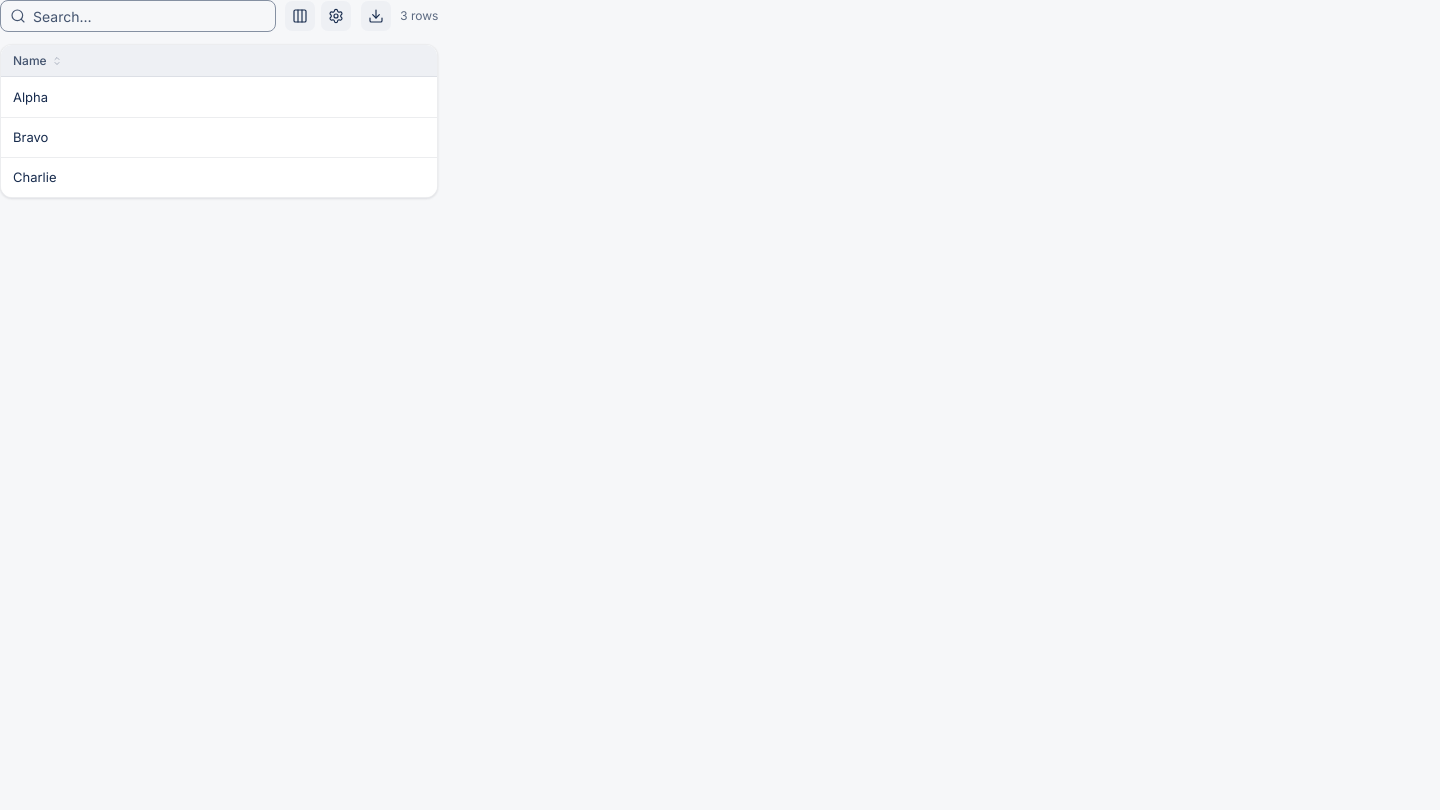
row side panel › moves to the next and previous record with the arrow keys
Click the text "Alpha".
click(31, 97)  # box [1, 77, 438, 117]
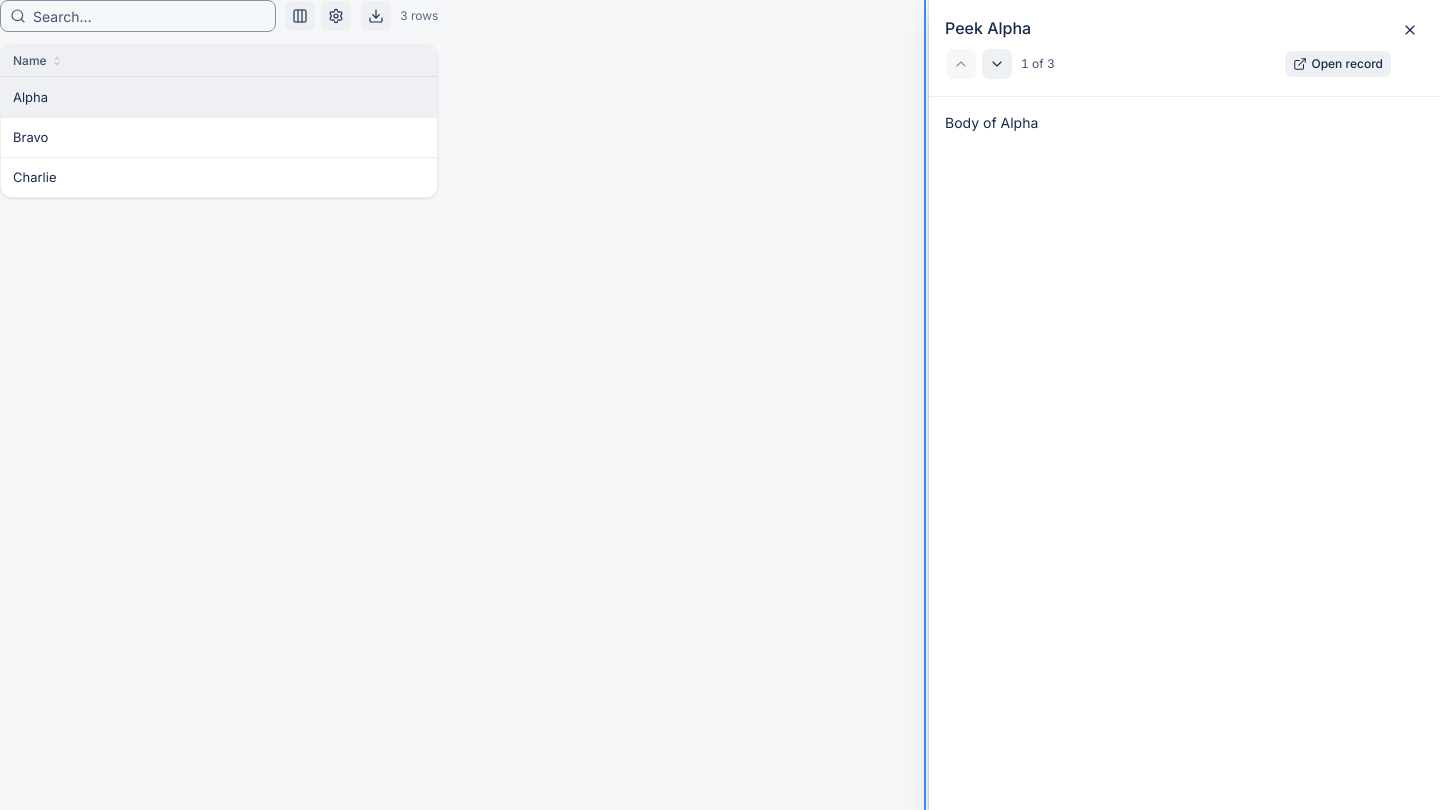
Press ArrowDown in the dialog, box [928, 0, 1439, 809]
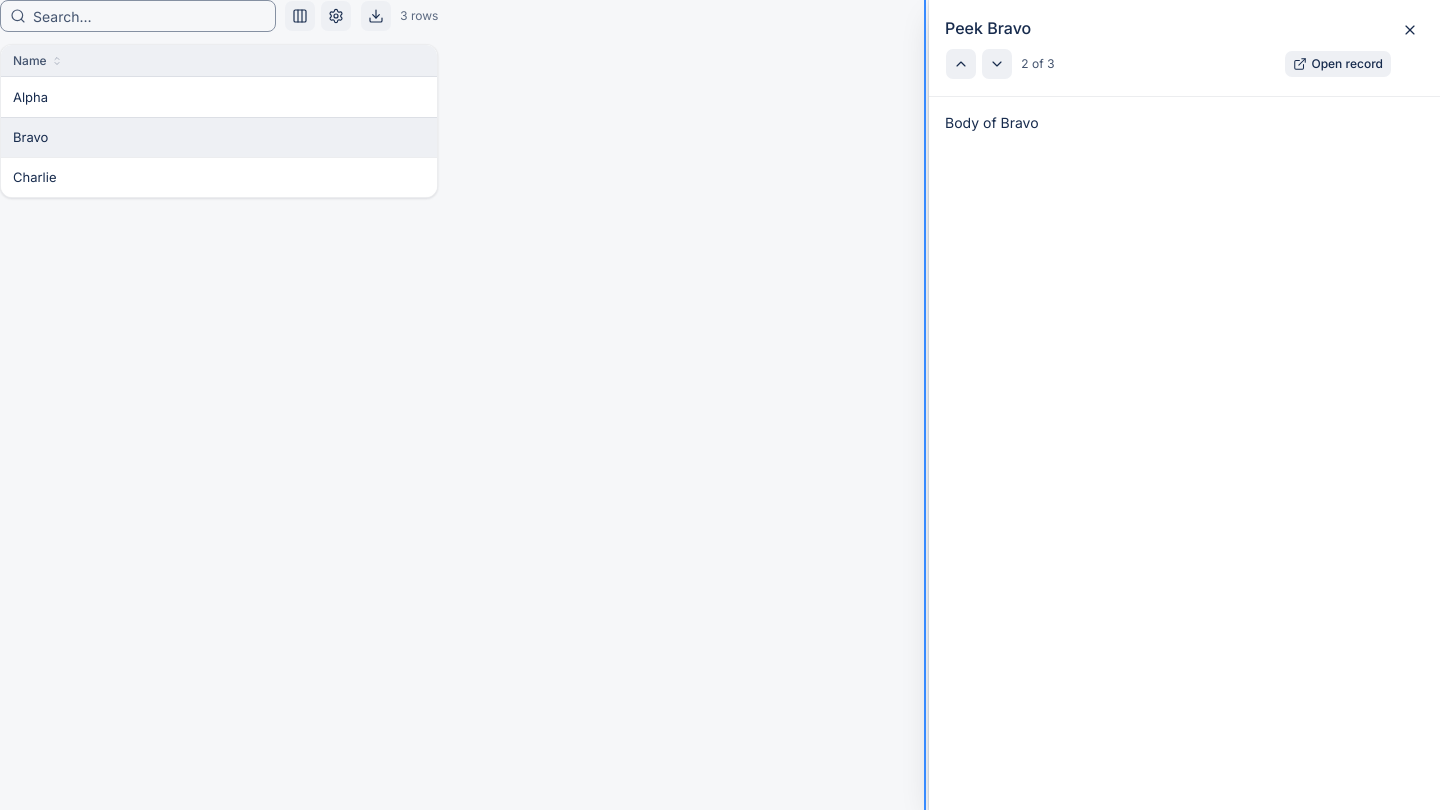
Expected: the heading "Peek Bravo" is shown, [945, 18, 1031, 38]
Press ArrowDown in the dialog, box [928, 0, 1439, 809]
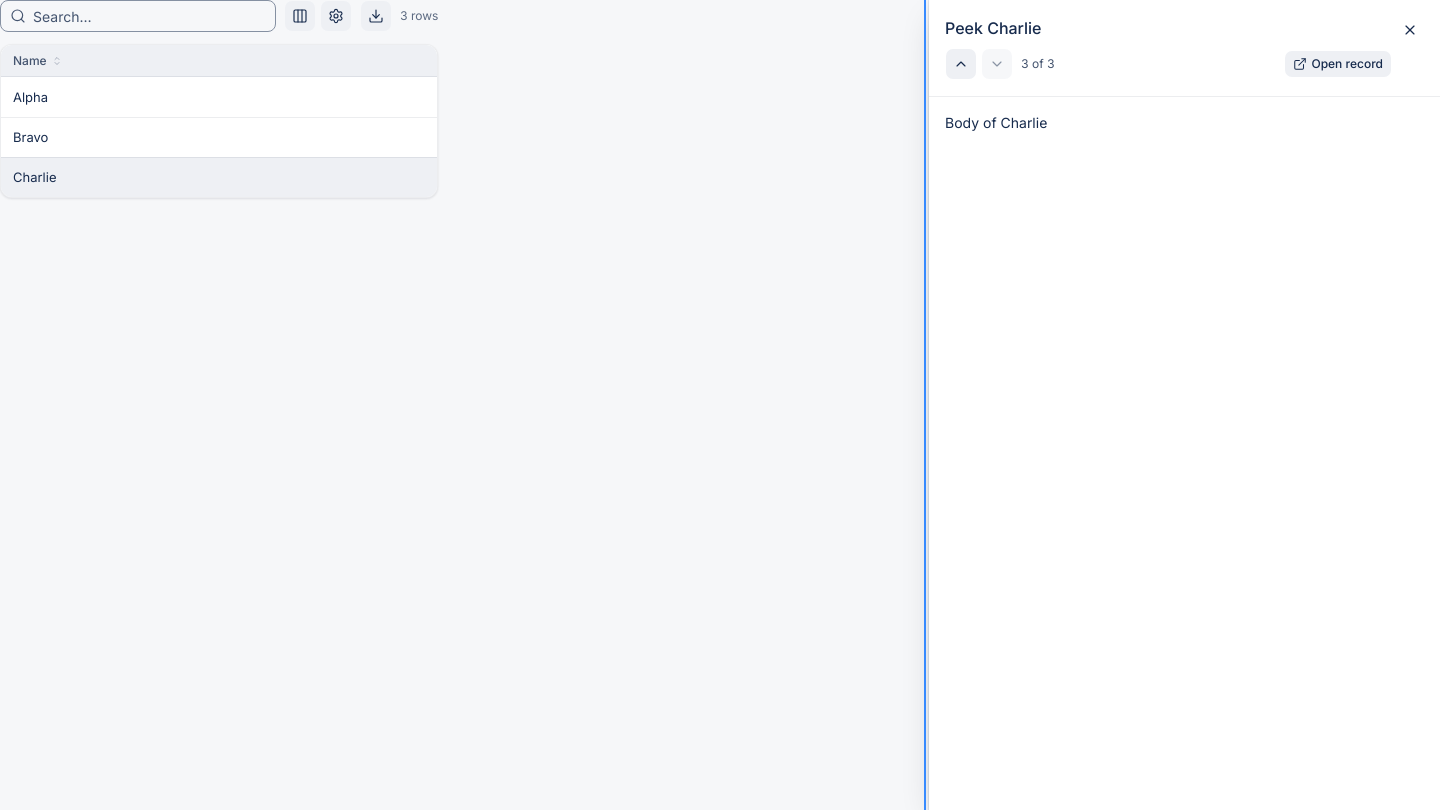
Press ArrowDown in the dialog, box [928, 0, 1439, 809]
Expected: the heading "Peek Charlie" is shown, [945, 18, 1042, 38]
Press ArrowUp in the dialog, box [928, 0, 1439, 809]
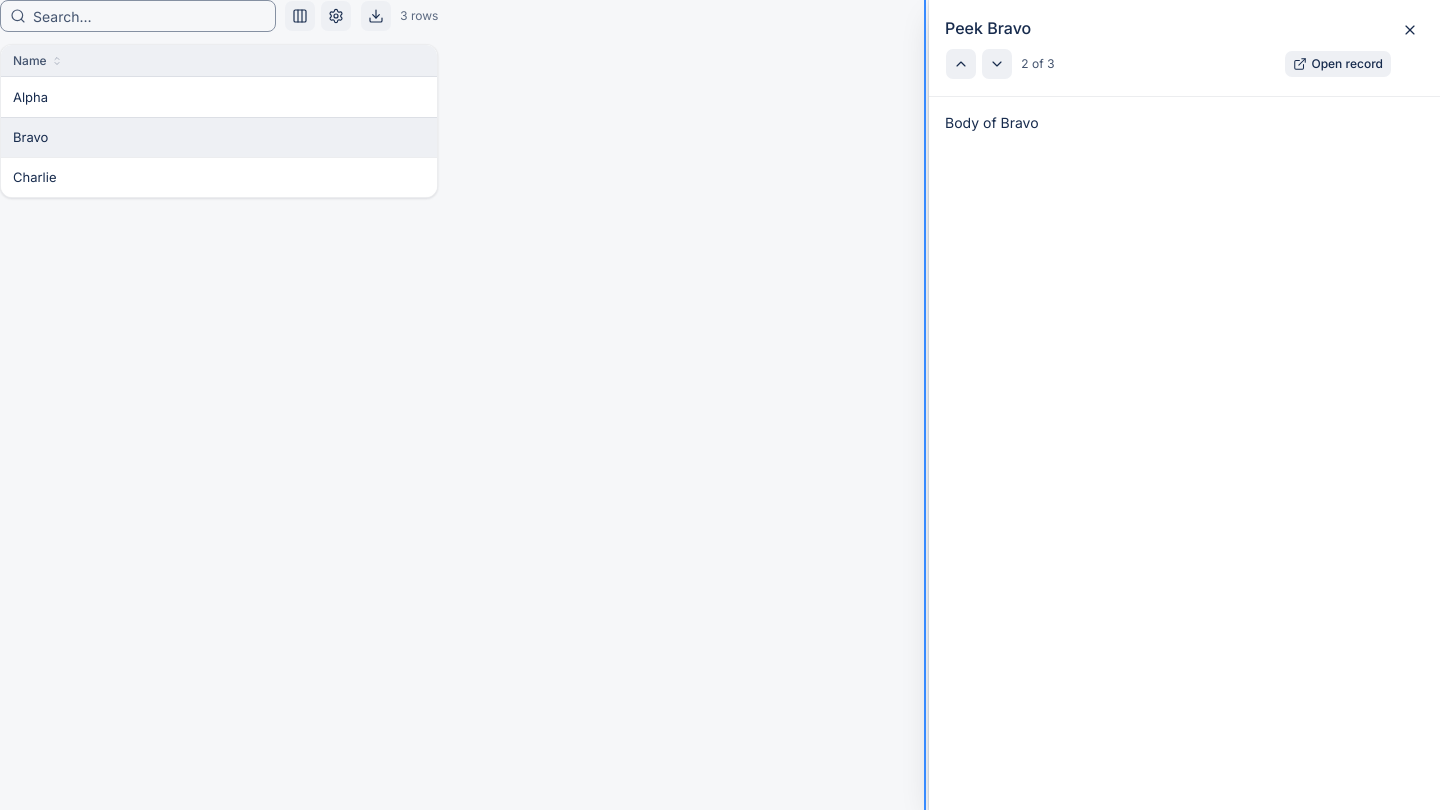
Expected: the heading "Peek Bravo" is shown, [945, 18, 1031, 38]
